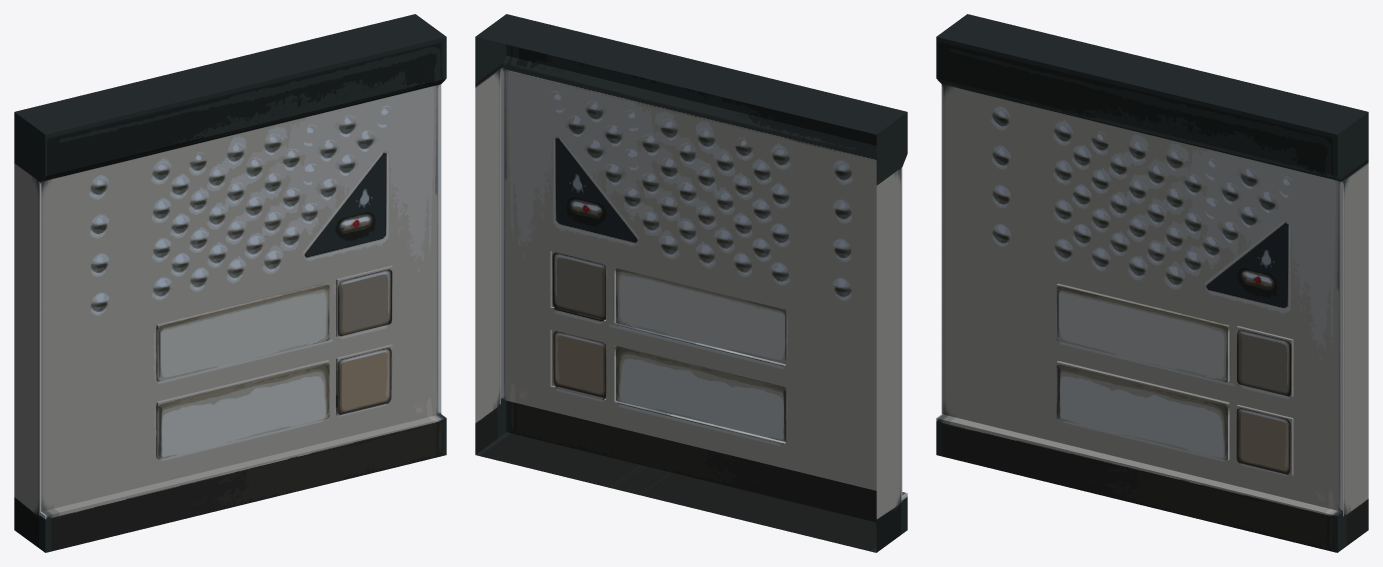
The model's file is Door Bell.fbx.
3 renders of one model, left to right at view 1: azimuth 30°, elevation 25°; view 2: azimuth 150°, elevation 25°; view 3: azimuth 330°, elevation 25°, orthographic.
Parts seen in each view (by area): view 1: door bell; view 2: door bell; view 3: door bell.
Boxes of the visible parts, x1=… form: door bell: x1=14, y1=14, x2=446, y2=552; door bell: x1=475, y1=14, x2=907, y2=552; door bell: x1=936, y1=14, x2=1368, y2=552.
Bounding box in the file's own units: 63.15 × 62.89 × 8.51.
Materials: 2 (2 with a texture image).
